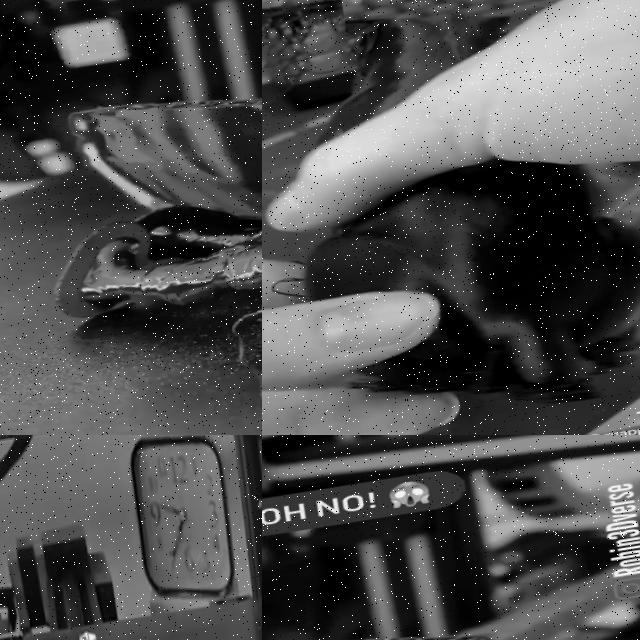spaghetti: (198, 214, 262, 435), (262, 0, 355, 116)
